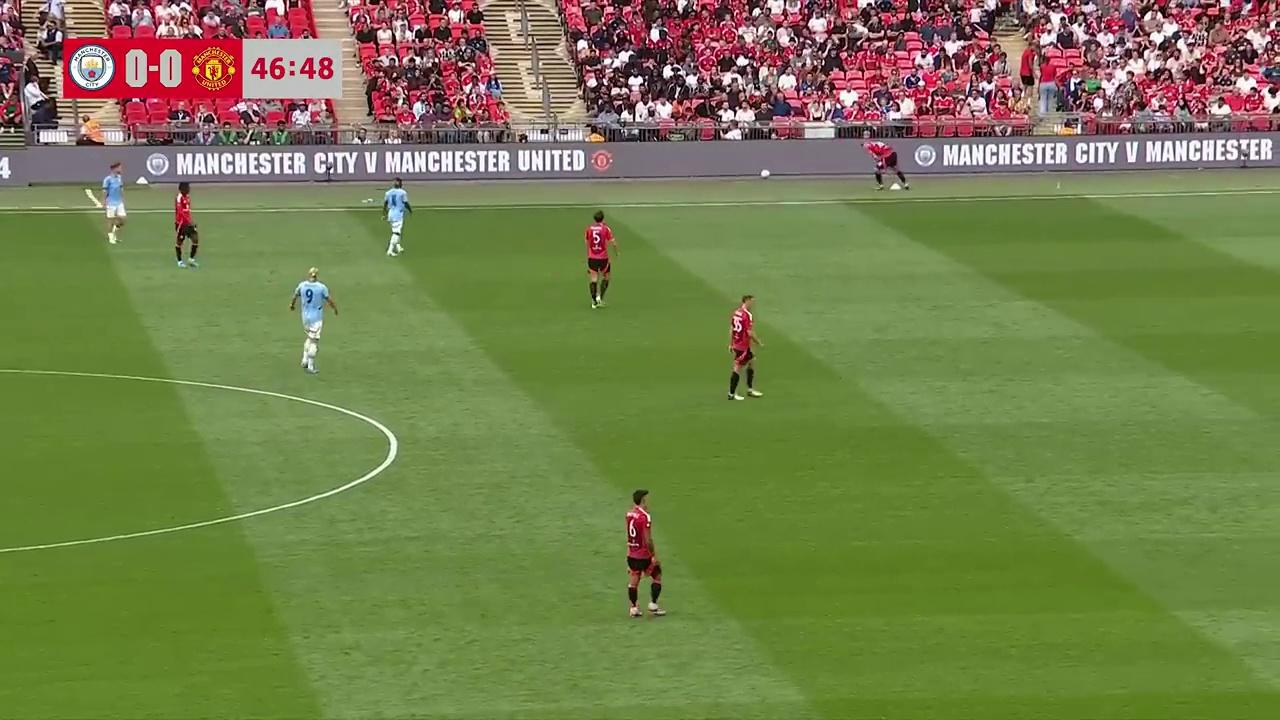player: (624, 489, 665, 619), (292, 267, 337, 374), (727, 295, 763, 400), (584, 212, 619, 308), (173, 183, 199, 269), (100, 162, 127, 244), (383, 180, 412, 256), (872, 141, 909, 191)
